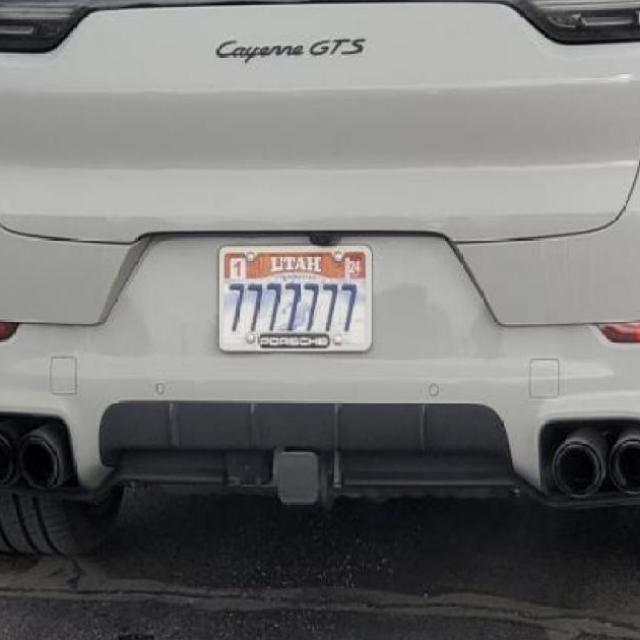license-plate: (216, 250, 382, 362)
